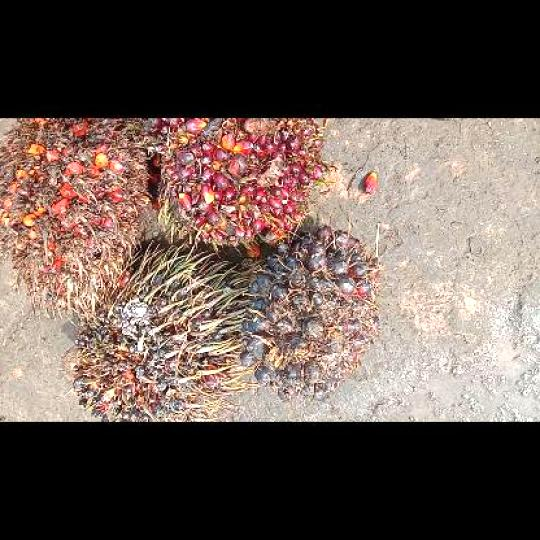masak: (153, 119, 332, 250)
terlalu masak: (1, 118, 147, 323)
